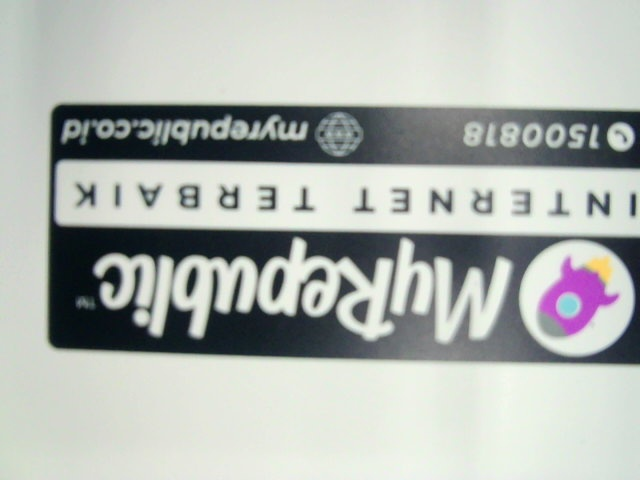BD_MyRepublic: (45, 97, 639, 368)
